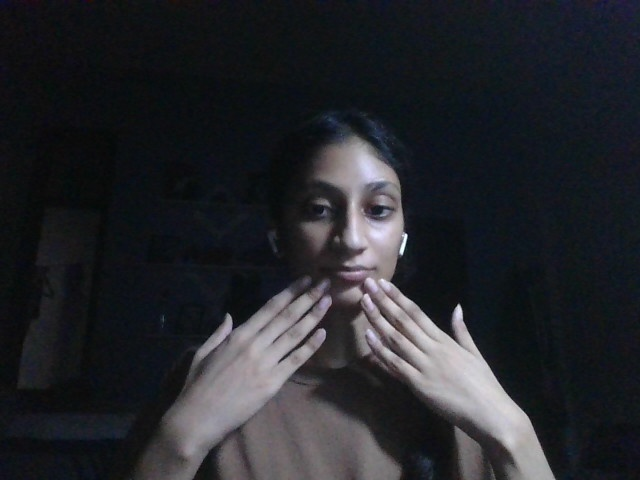thank you: (154, 273, 531, 456)
